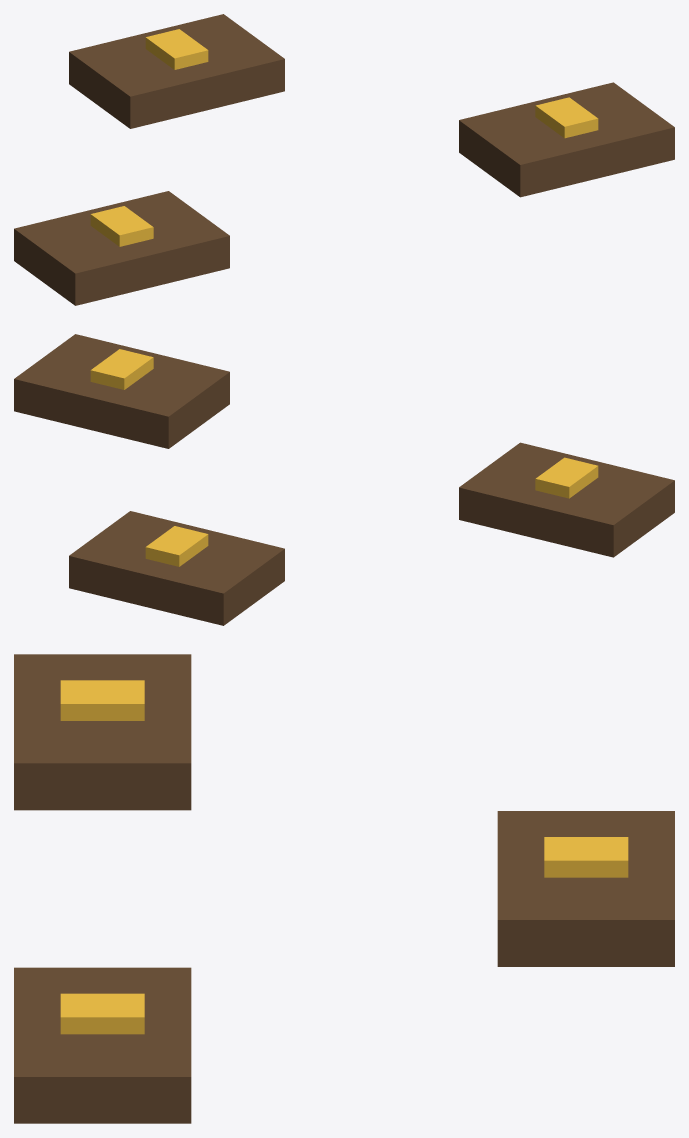
The model's file is crop_corn_seed.glb.
3 views of the same model, one above another, from view 1: azimuth 30°, elevation 25°; view 2: azimuth 150°, elevation 25°; view 3: azimuth 270°, elevation 25° (orthographic). The views are drawn at different scales.
Visible parts, largest first — view 1: body__soil.001, body__yellow2.001; view 2: body__soil.001, body__yellow2.001; view 3: body__soil.001, body__yellow2.001.
Part boxes in pixels (x1,y1,x2,y2): body__soil.001: [14, 14, 674, 305]; body__yellow2.001: [90, 29, 598, 246]; body__soil.001: [14, 334, 674, 625]; body__yellow2.001: [90, 349, 598, 566]; body__soil.001: [14, 654, 674, 1123]; body__yellow2.001: [60, 680, 628, 1034].
Size of the model in its own units: 0.62 by 0.0435 by 0.41.
